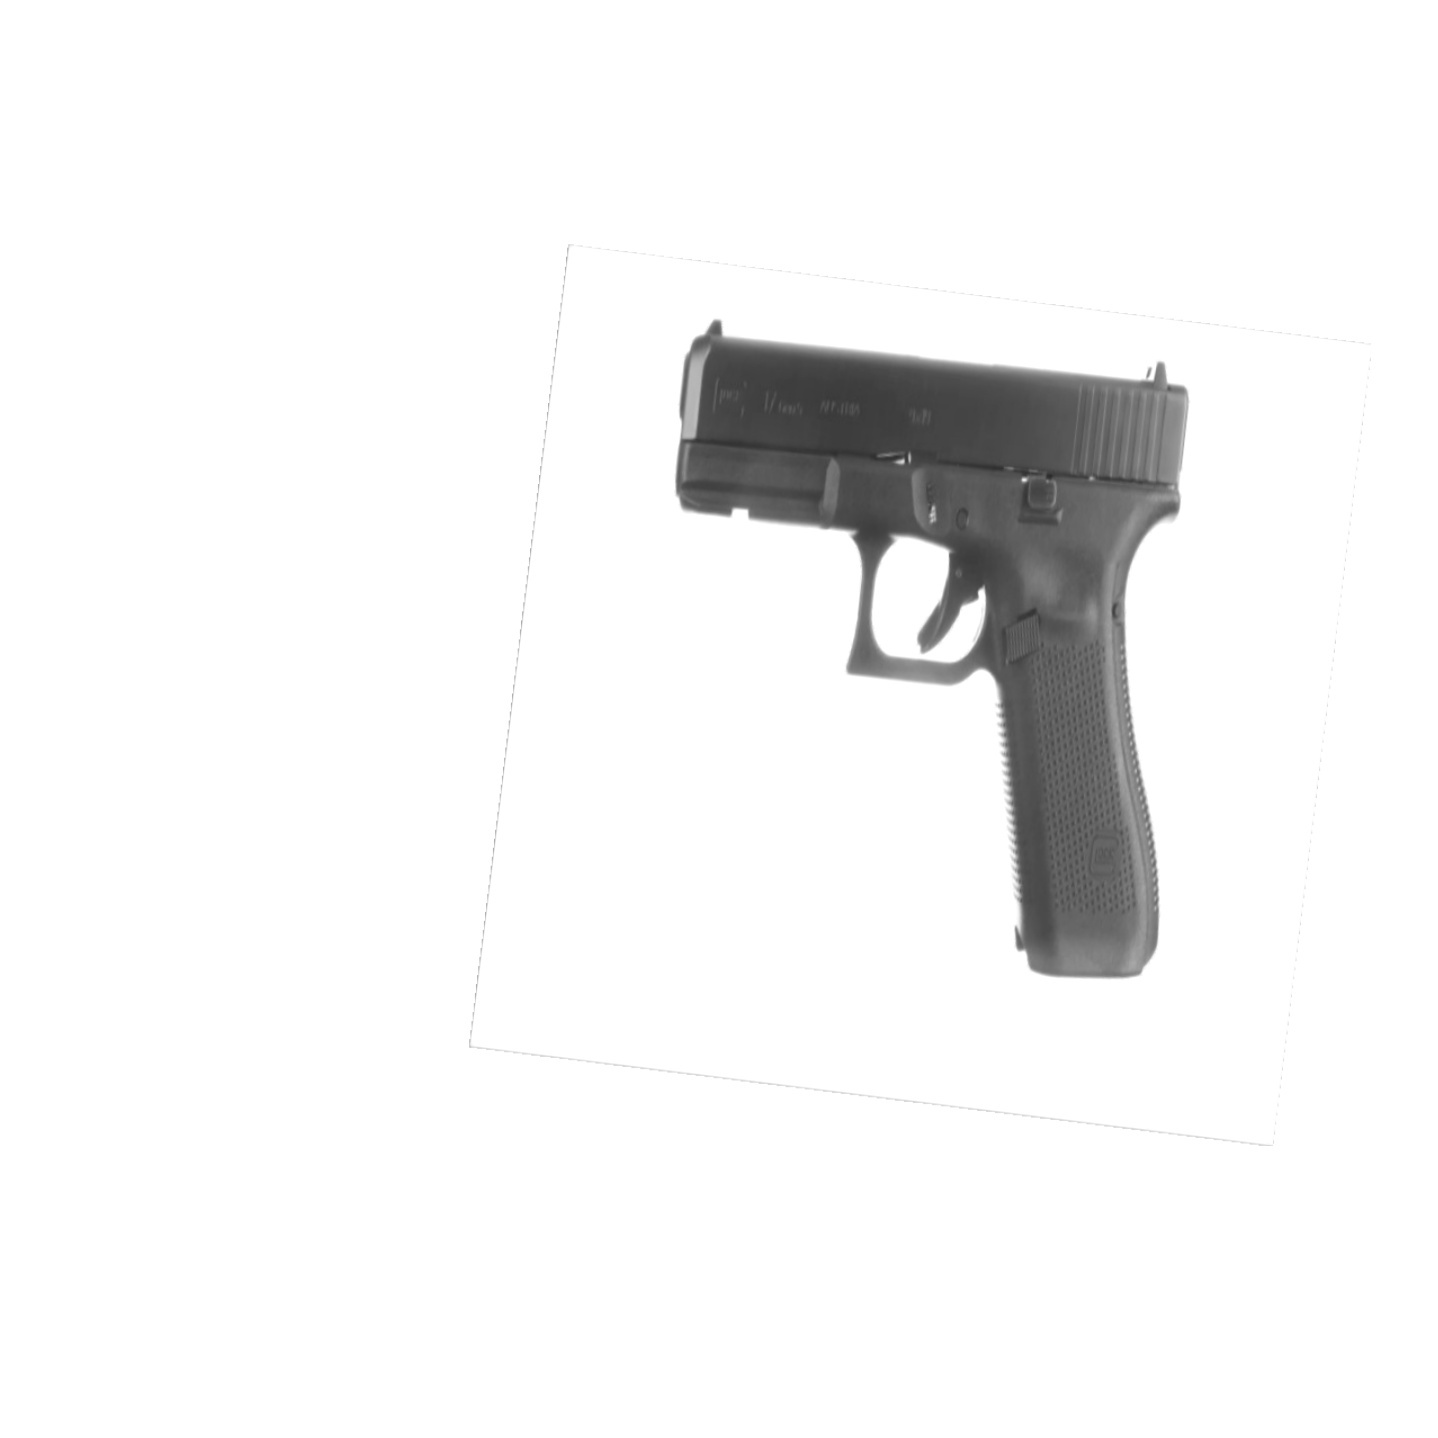gun: (676, 317, 1192, 989)
